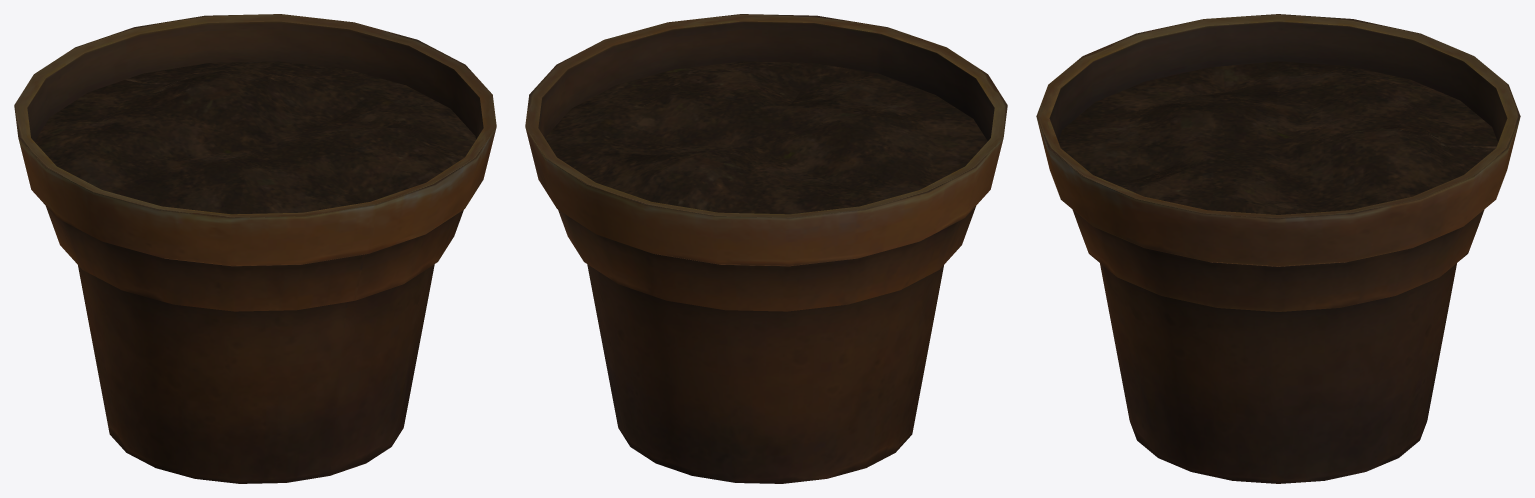
The model's file is pot.obj.
3 views of the same model, side by side, from view 1: azimuth 30°, elevation 25°; view 2: azimuth 150°, elevation 25°; view 3: azimuth 270°, elevation 25° (orthographic).
Visible parts, largest first — view 1: target_plantpot_mesh; view 2: target_plantpot_mesh; view 3: target_plantpot_mesh.
Part boxes in pixels (left/top/right/bottom): target_plantpot_mesh: left=14, top=14, right=496, bottom=483; target_plantpot_mesh: left=525, top=14, right=1007, bottom=483; target_plantpot_mesh: left=1036, top=14, right=1520, bottom=483.
Bounding box in the file's own units: 15.07 × 10.51 × 15.07.
1 material, 1 textured.
